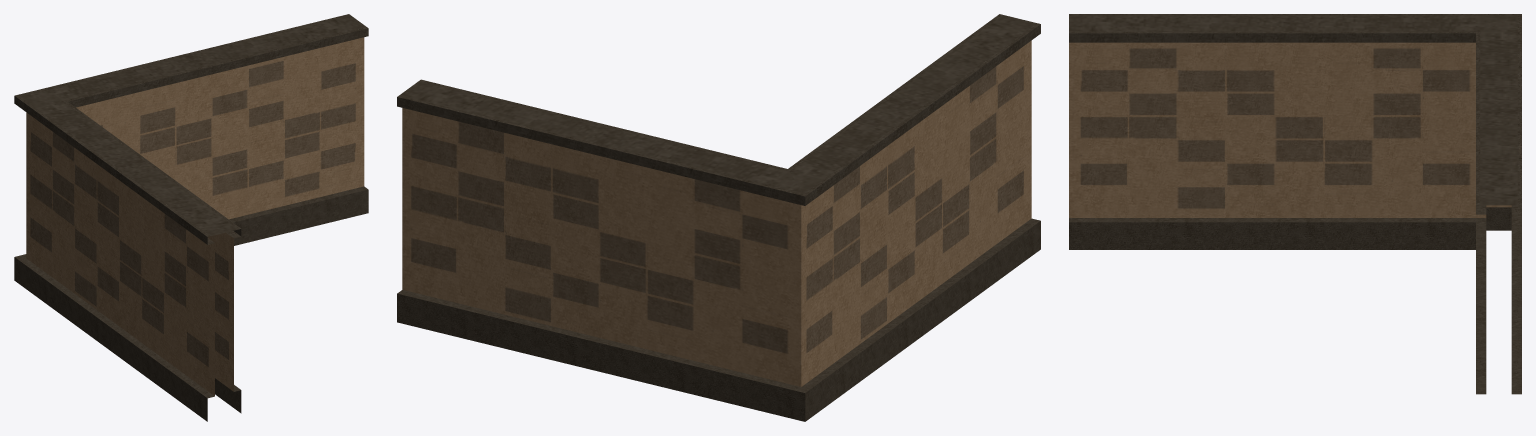
File: Wall_Half_Corner_Convex_001.fbx
3 renders of one model, left to right at view 1: azimuth 30°, elevation 25°; view 2: azimuth 150°, elevation 25°; view 3: azimuth 270°, elevation 25°, orthographic. The views are drawn at different scales.
Parts seen in each view (by area): view 1: Wall_Half_Corner_Convex_001; view 2: Wall_Half_Corner_Convex_001; view 3: Wall_Half_Corner_Convex_001.
Boxes of the visible parts, box(x1,y1,x2,y2) form: Wall_Half_Corner_Convex_001: box(14, 14, 368, 421); Wall_Half_Corner_Convex_001: box(397, 14, 1040, 421); Wall_Half_Corner_Convex_001: box(1069, 14, 1521, 394).
Bounding box in the file's own units: 445 × 235 × 445.
